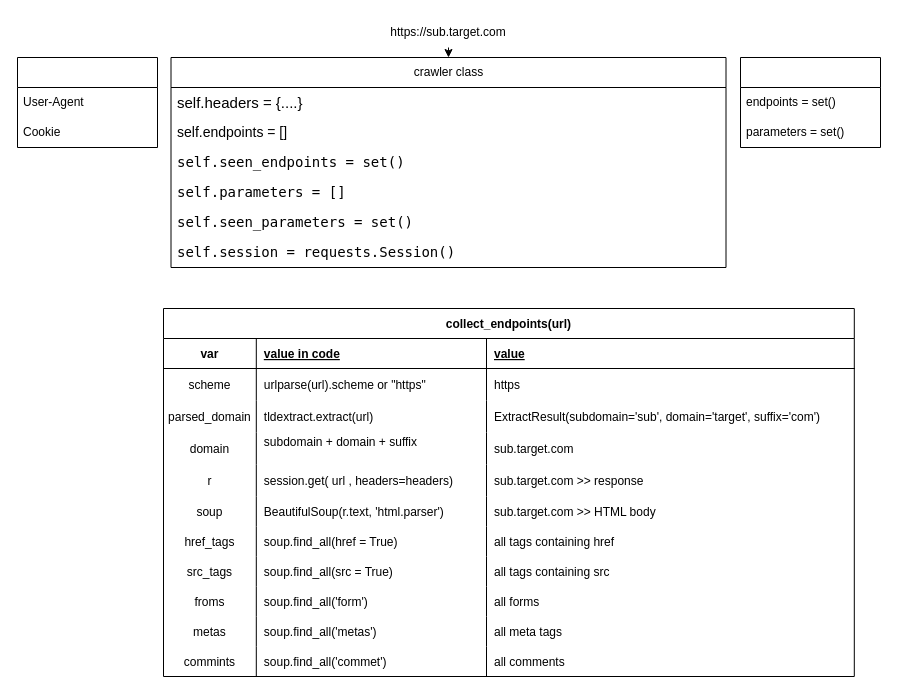
This 898x694 diagram has some shape labels left out. Here are the shapes that lost their labels. From the top down, the box of each, then its label:
(16, 56, 158, 148): headers
(740, 56, 880, 148): self.
